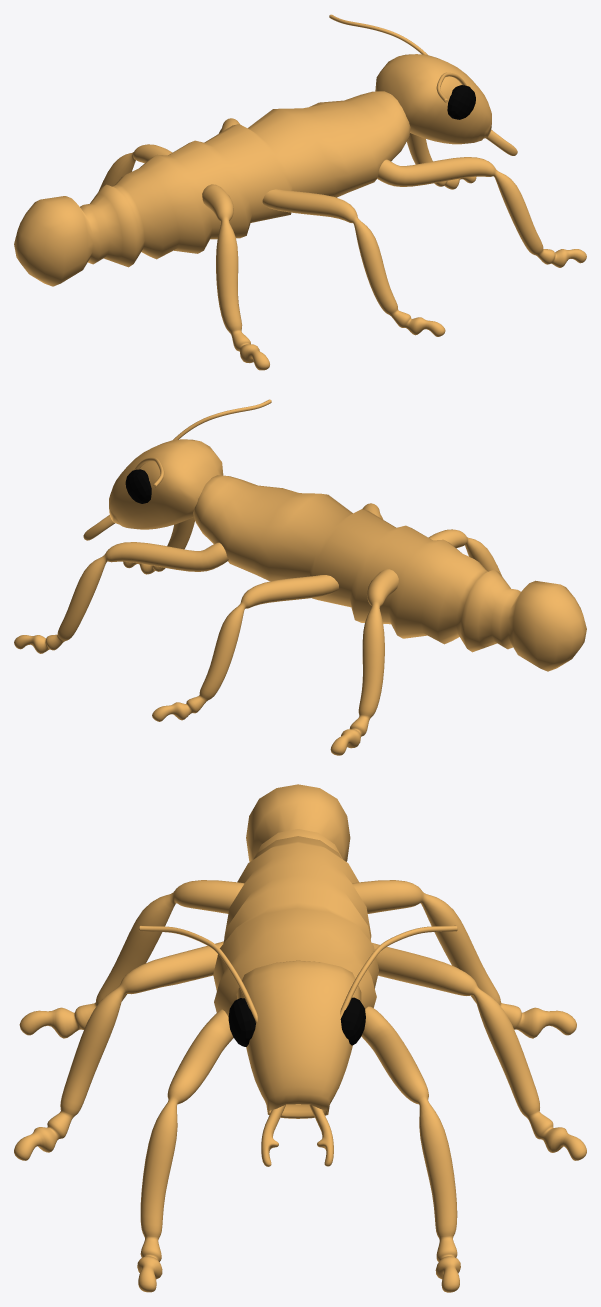
Rendered from pet-termite.glb.
3 renders of one model, top to bottom at view 1: azimuth 30°, elevation 25°; view 2: azimuth 150°, elevation 25°; view 3: azimuth 270°, elevation 25°, orthographic. The views are drawn at different scales.
Bounding box in the file's own units: 0.1201 × 0.0451 × 0.0844.
